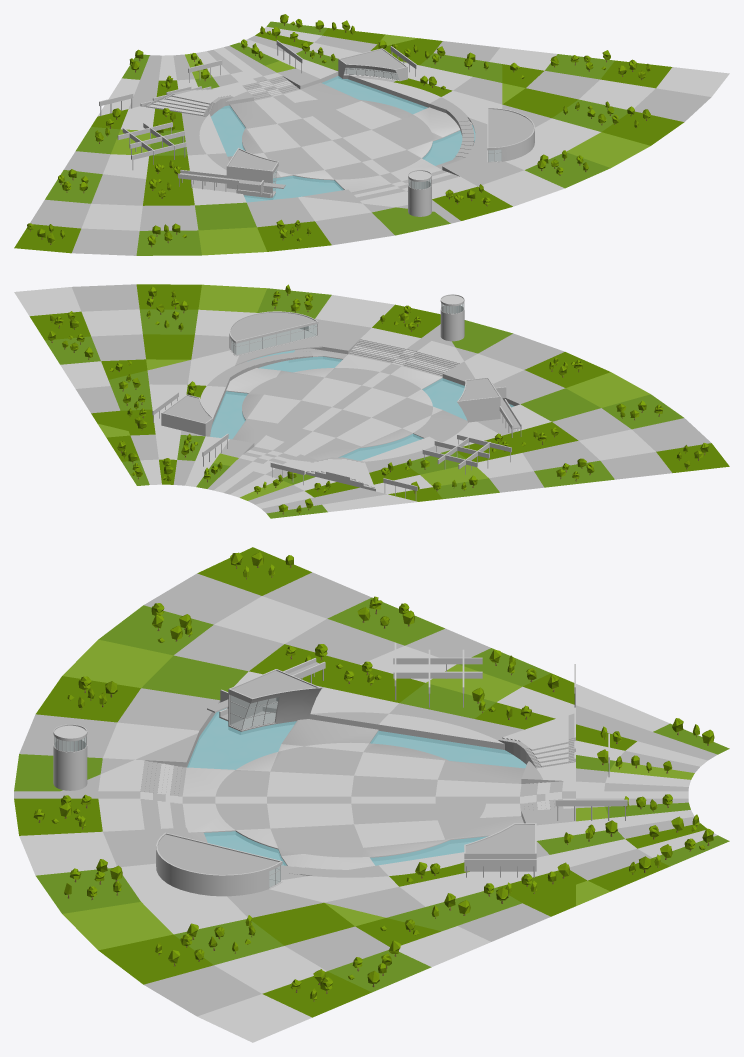
File: dome_terrain.glb
3 renders of one model, top to bottom at view 1: azimuth 30°, elevation 25°; view 2: azimuth 150°, elevation 25°; view 3: azimuth 270°, elevation 25°, orthographic. The views are drawn at different scales.
Parts seen in each view (by area): view 1: DOME_TERRAIN_MOD; view 2: DOME_TERRAIN_MOD; view 3: DOME_TERRAIN_MOD.
Part boxes in pixels (<box>): DOME_TERRAIN_MOD: <box>14,14,729,255</box>; DOME_TERRAIN_MOD: <box>14,284,729,518</box>; DOME_TERRAIN_MOD: <box>14,547,729,1042</box>.
Size of the model in its own units: 31153 by 1820 by 19014.
Materials: 10 (1 with a texture image).
